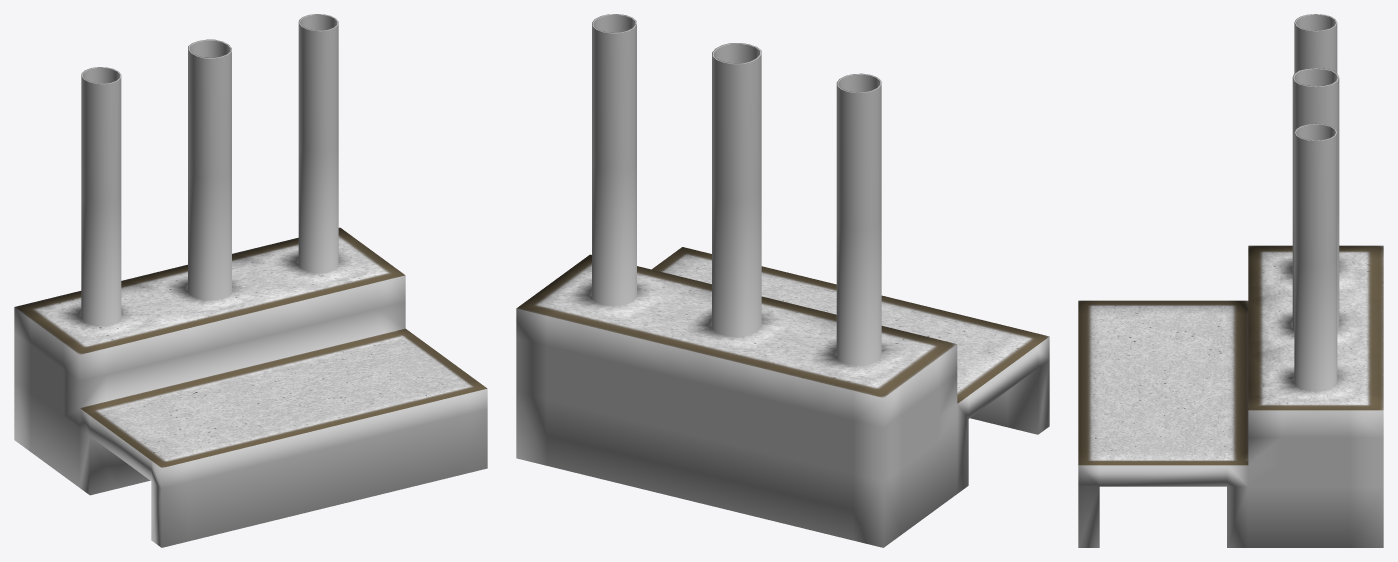
File: Factory1.fbx
3 renders of one model, left to right at view 1: azimuth 30°, elevation 25°; view 2: azimuth 150°, elevation 25°; view 3: azimuth 270°, elevation 25°, orthographic. The views are drawn at different scales.
Parts seen in each view (by area): view 1: pCube1; view 2: pCube1; view 3: pCube1.
Boxes of the visible parts, x1=… form: pCube1: x1=14, y1=14, x2=487, y2=547; pCube1: x1=516, y1=14, x2=1049, y2=547; pCube1: x1=1078, y1=14, x2=1383, y2=547.
Size of the model in its own units: 13.55 by 14.9 by 10.61.
